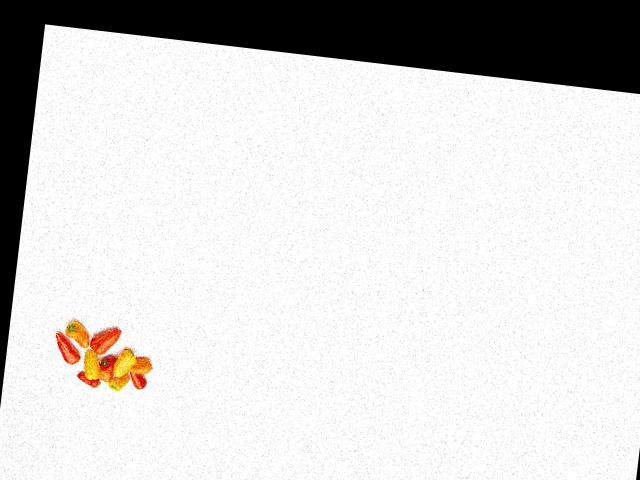bell_pepper: (72, 372, 102, 389)
